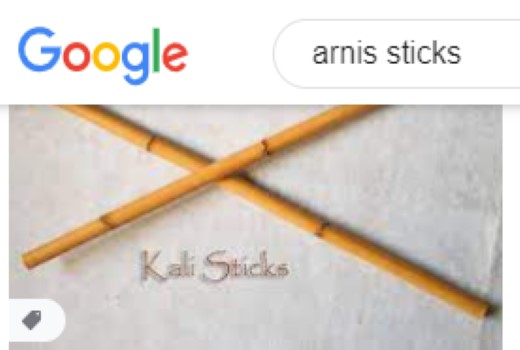baston_e: (52, 111, 462, 319), (43, 123, 425, 273)
baston_v: (473, 297, 494, 323), (17, 249, 37, 273)
